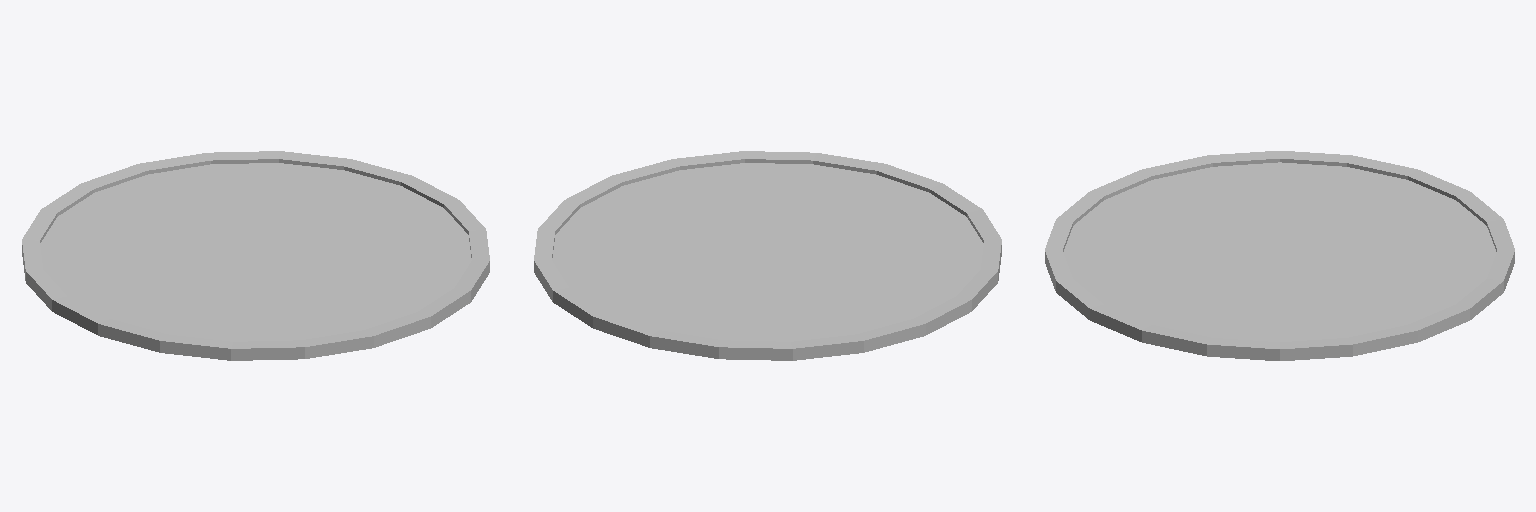
File: pucklowres.obj
3 renders of one model, left to right at view 1: azimuth 30°, elevation 25°; view 2: azimuth 150°, elevation 25°; view 3: azimuth 270°, elevation 25°, orthographic.
Parts seen in each view (by area): view 1: Cylinder.001; view 2: Cylinder.001; view 3: Cylinder.001.
Part boxes in pixels (x1,y1,x2,y2): Cylinder.001: (22, 151, 489, 360); Cylinder.001: (534, 151, 1001, 360); Cylinder.001: (1045, 151, 1514, 360).
Bounding box in the file's own units: 3.55 × 0.1003 × 3.55.